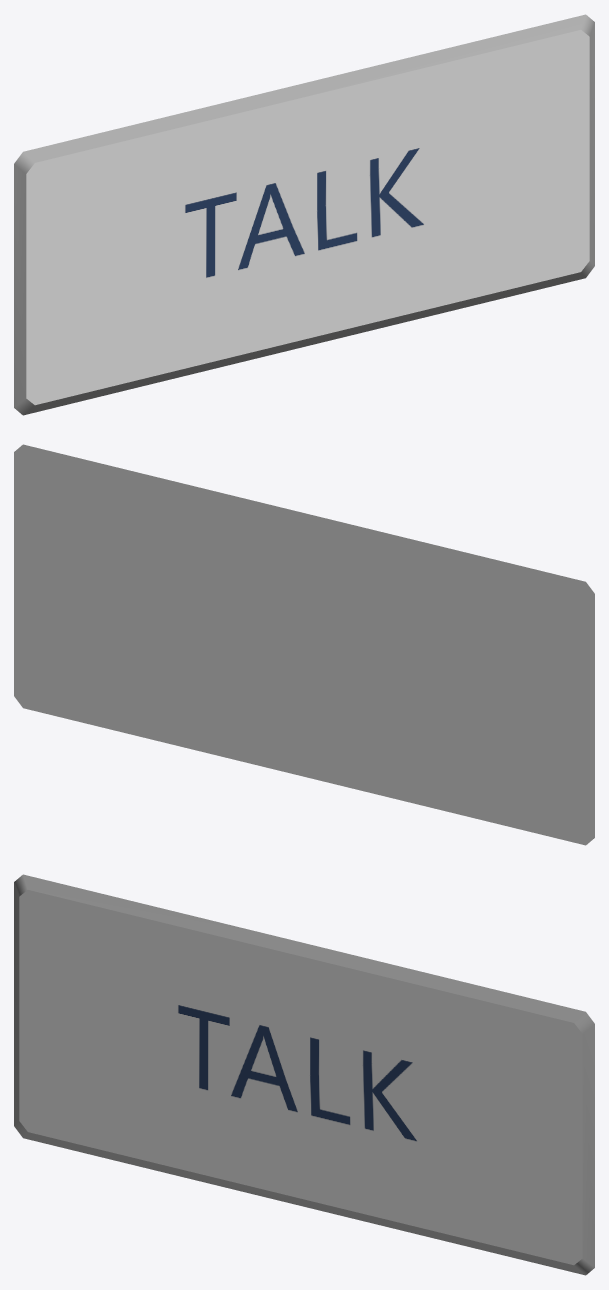
The model's file is Talk.fbx.
3 views of the same model, one above another, from view 1: azimuth 30°, elevation 25°; view 2: azimuth 150°, elevation 25°; view 3: azimuth 330°, elevation 25° (orthographic).
Parts seen in each view (by area): view 1: Talk; view 2: Talk; view 3: Talk.
Boxes of the visible parts, bbox=[...] form: Talk: bbox=[14, 14, 594, 415]; Talk: bbox=[14, 444, 594, 845]; Talk: bbox=[14, 874, 594, 1275].
Bounding box in the file's own units: 1 × 0.4342 × 0.0104.
Materials: 2 (1 with a texture image).
